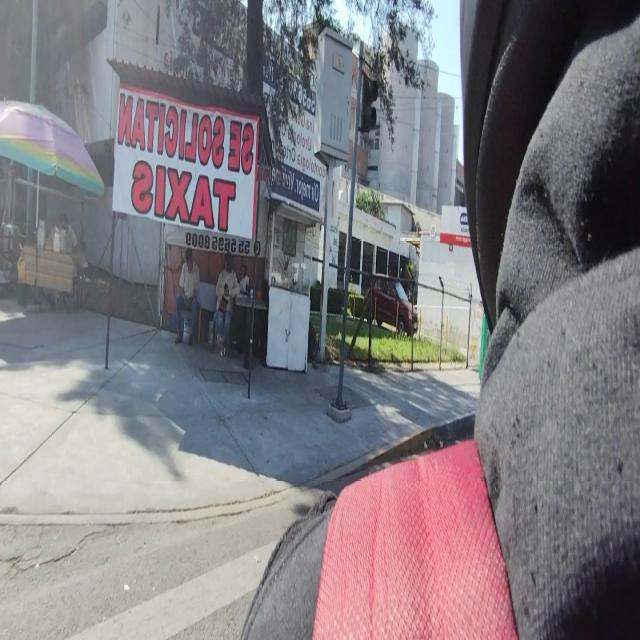adult: (215, 252, 239, 359), (176, 248, 200, 346)
